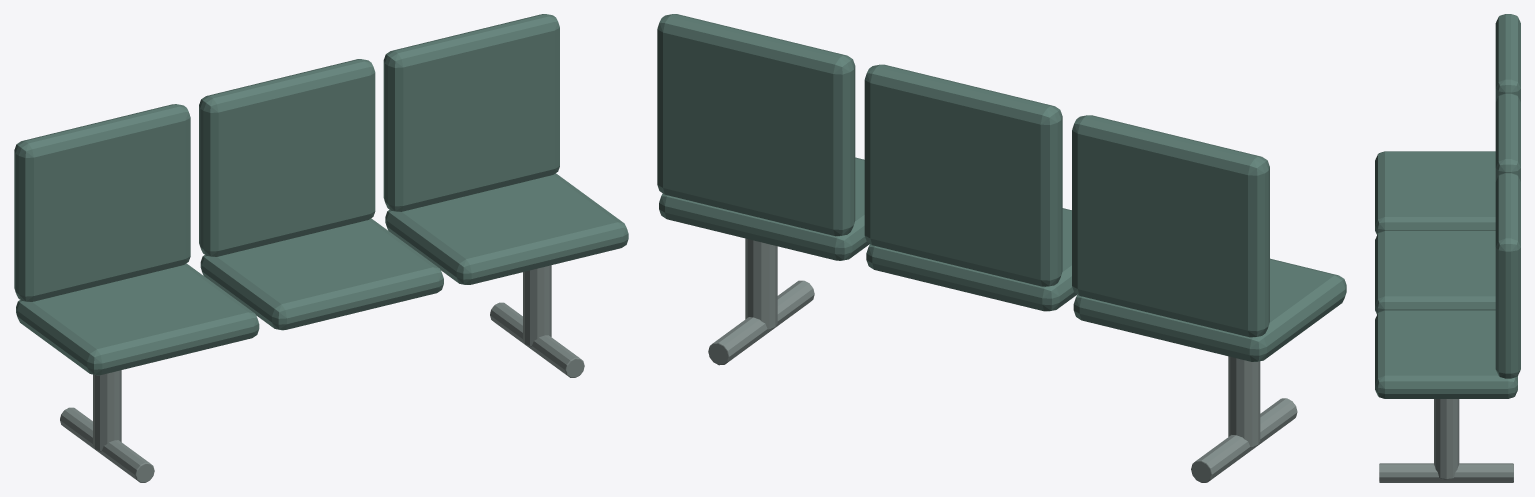
The model's file is H_WaitingBench.fbx.
The picture shows the model from 3 angles, left to right: view 1: azimuth 30°, elevation 25°; view 2: azimuth 150°, elevation 25°; view 3: azimuth 270°, elevation 25°; orthographic projection. The views are drawn at different scales.
Visible parts, largest first — view 1: H_WaitingBench; view 2: H_WaitingBench; view 3: H_WaitingBench.
Part boxes in pixels (bbox=[...]): H_WaitingBench: bbox=[14, 14, 628, 482]; H_WaitingBench: bbox=[657, 14, 1346, 482]; H_WaitingBench: bbox=[1375, 14, 1520, 482].
Bounding box in the file's own units: 1.96 × 1.04 × 0.52.
